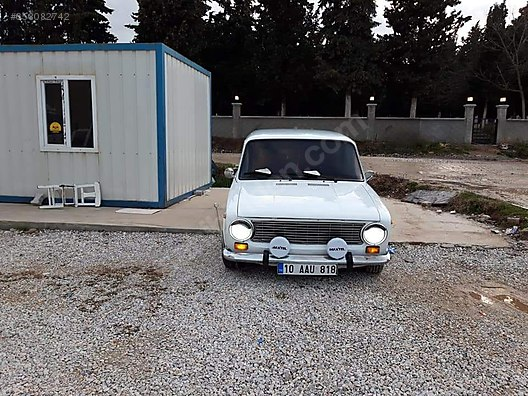murat: (215, 126, 398, 283)
